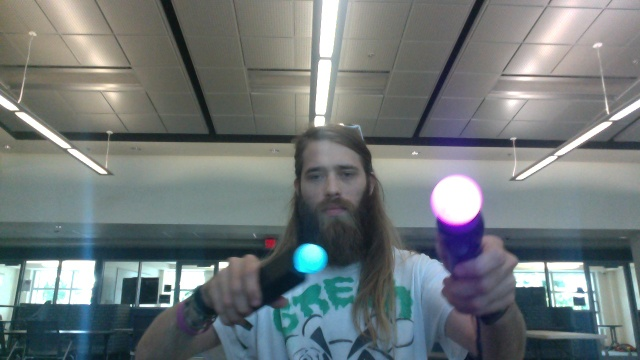wand: (432, 175, 482, 225), (294, 244, 327, 274)
